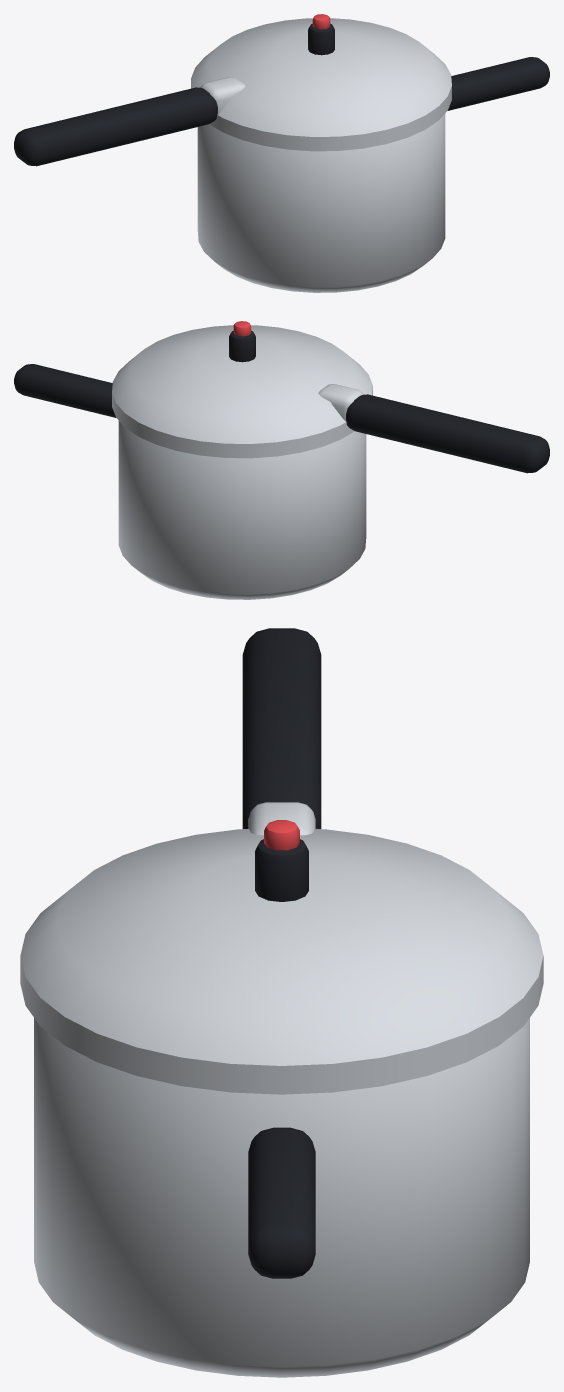
File: panela_pressao_inox.glb
The picture shows the model from 3 angles, top to bottom: view 1: azimuth 30°, elevation 25°; view 2: azimuth 150°, elevation 25°; view 3: azimuth 270°, elevation 25°; orthographic projection. The views are drawn at different scales.
Visible parts, largest first — view 1: panela_pressao_inox; view 2: panela_pressao_inox; view 3: panela_pressao_inox.
Part boxes in pixels (bbox=[...]): panela_pressao_inox: bbox=[14, 14, 549, 292]; panela_pressao_inox: bbox=[14, 321, 549, 599]; panela_pressao_inox: bbox=[20, 628, 543, 1377].
Bounding box in the file's own units: 0.54 × 0.224 × 0.232.
Materials: 1 (1 with a texture image).
